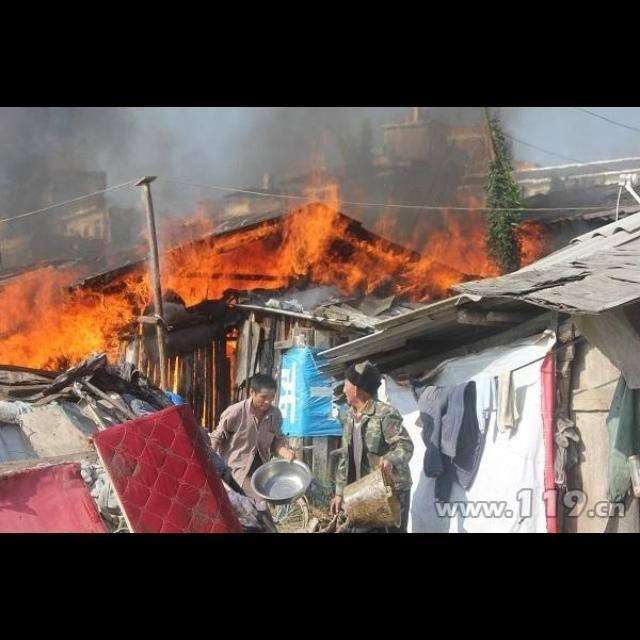Fire: (2, 170, 500, 434), (512, 220, 546, 270)
Smoke: (2, 109, 640, 283)
